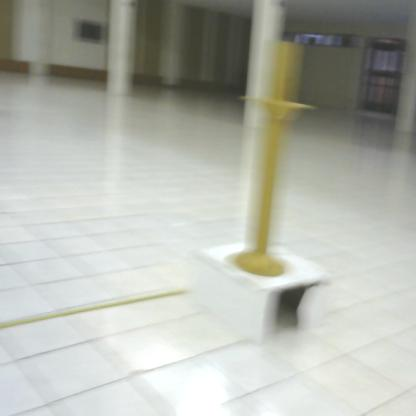pole: (225, 37, 323, 290)
